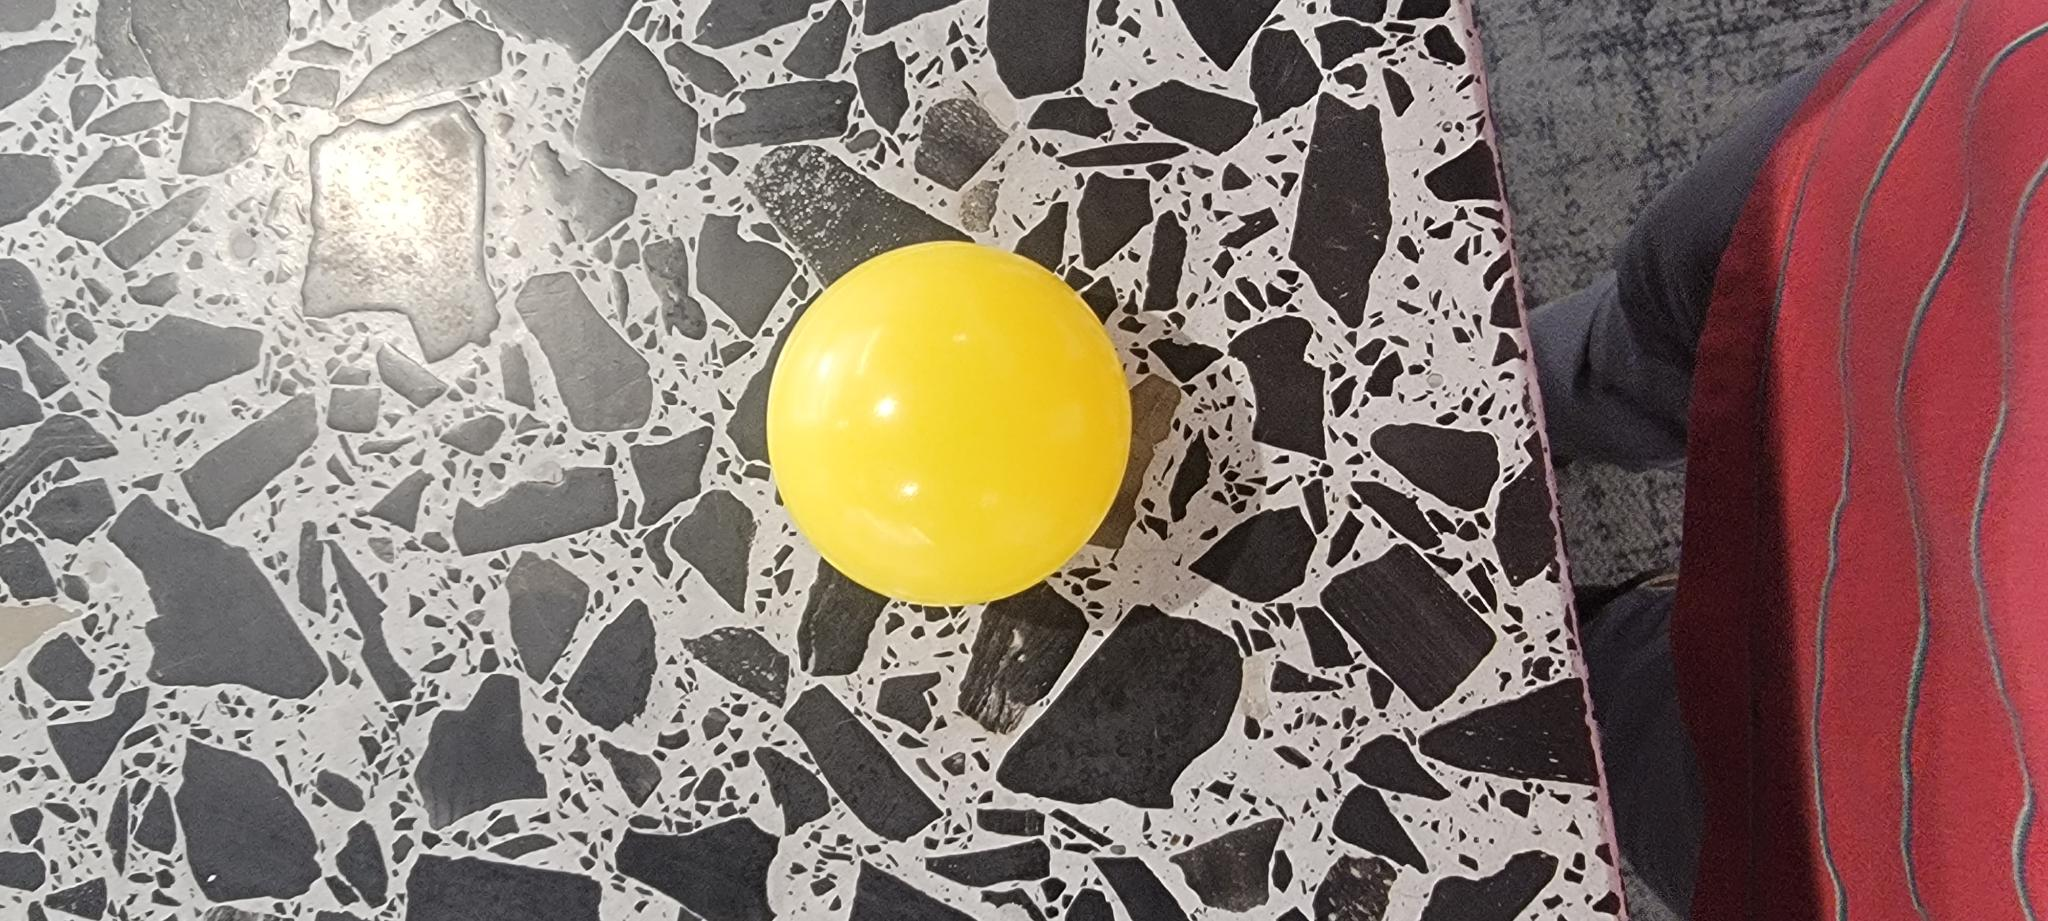Yellow-Ball: (315, 768, 680, 921)
